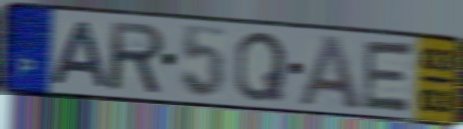5: (178, 26, 228, 102)
A: (296, 33, 365, 112), (46, 19, 113, 90)
E: (358, 38, 418, 115)
Q: (232, 29, 289, 103)
R: (108, 19, 168, 97)
